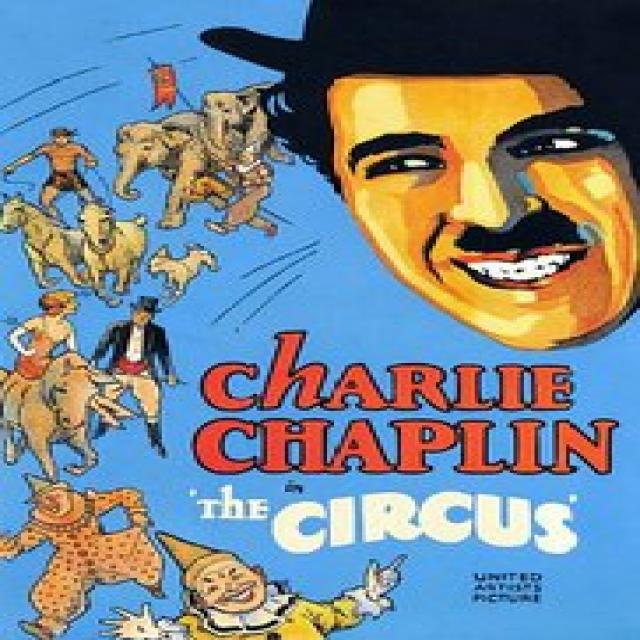movie-judul: (190, 325, 640, 554)
picture: (0, 1, 640, 639)
